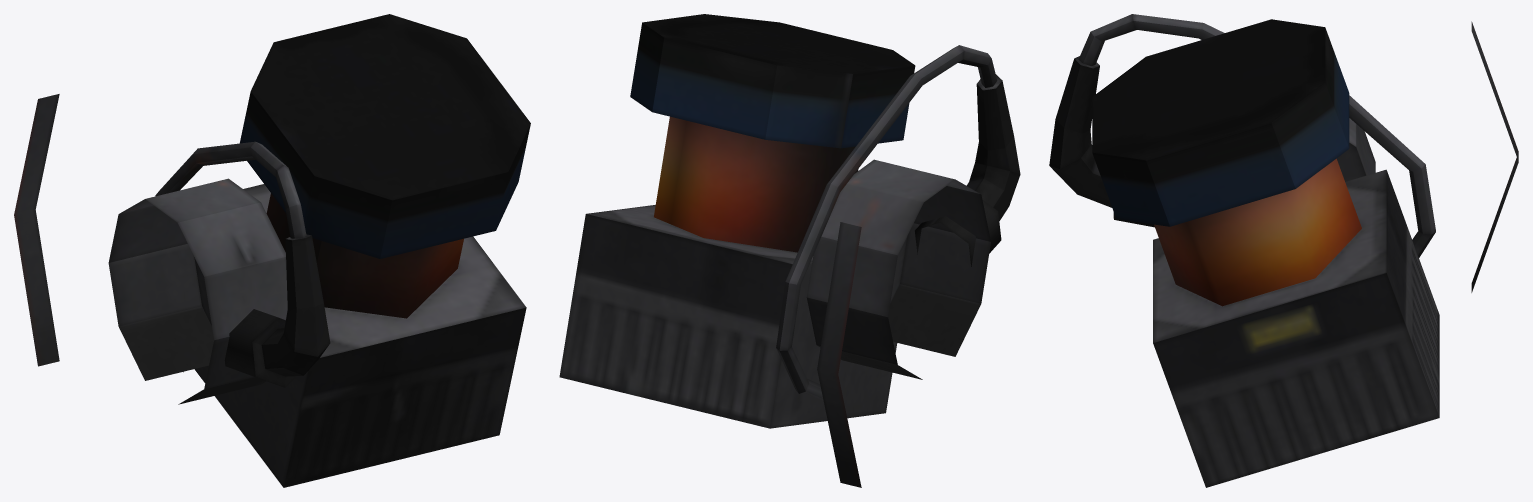
Rendered from head_camera.dae.
The picture shows the model from 3 angles, left to right: view 1: azimuth 30°, elevation 25°; view 2: azimuth 150°, elevation 25°; view 3: azimuth 270°, elevation 25°; orthographic projection. The views are drawn at different scales.
Visible parts, largest first — view 1: drc_head_camera; view 2: drc_head_camera; view 3: drc_head_camera.
Boxes of the visible parts, x1=… form: drc_head_camera: x1=14, y1=14, x2=530, y2=487; drc_head_camera: x1=559, y1=14, x2=1020, y2=487; drc_head_camera: x1=1049, y1=14, x2=1518, y2=487.
Size of the model in its own units: 0.0889 by 0.1126 by 0.101.
